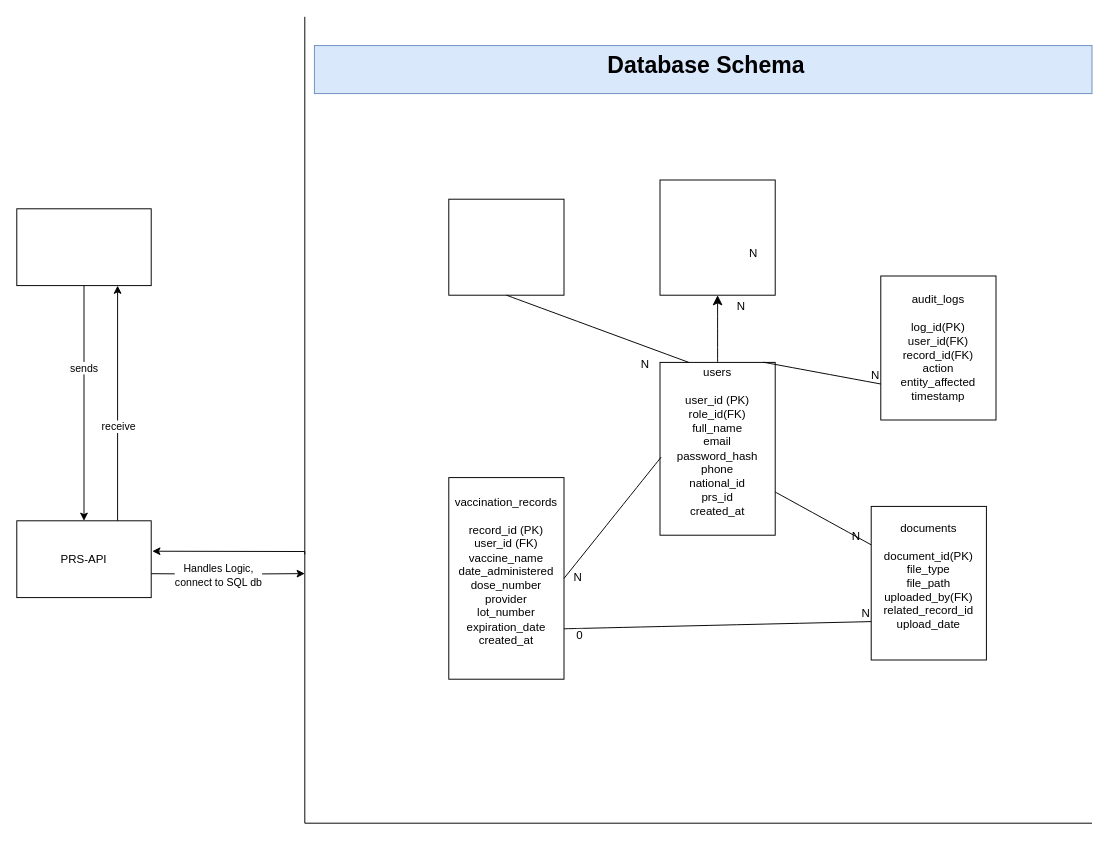
Some shapes in this 1110 by 841 pixel diagram are drawn without their labels. The shapes that lost their labels are listed below. From the top down, each one's box as (x1, y1, x2, y2) in pixels, then its label:
(16, 208, 151, 286): PRS-FRONTEND
(448, 198, 564, 295): roles role_id role_name description
(659, 179, 775, 295): encryption_keys key_id(PK) user_id(FK) key_type key_value owner created_date
